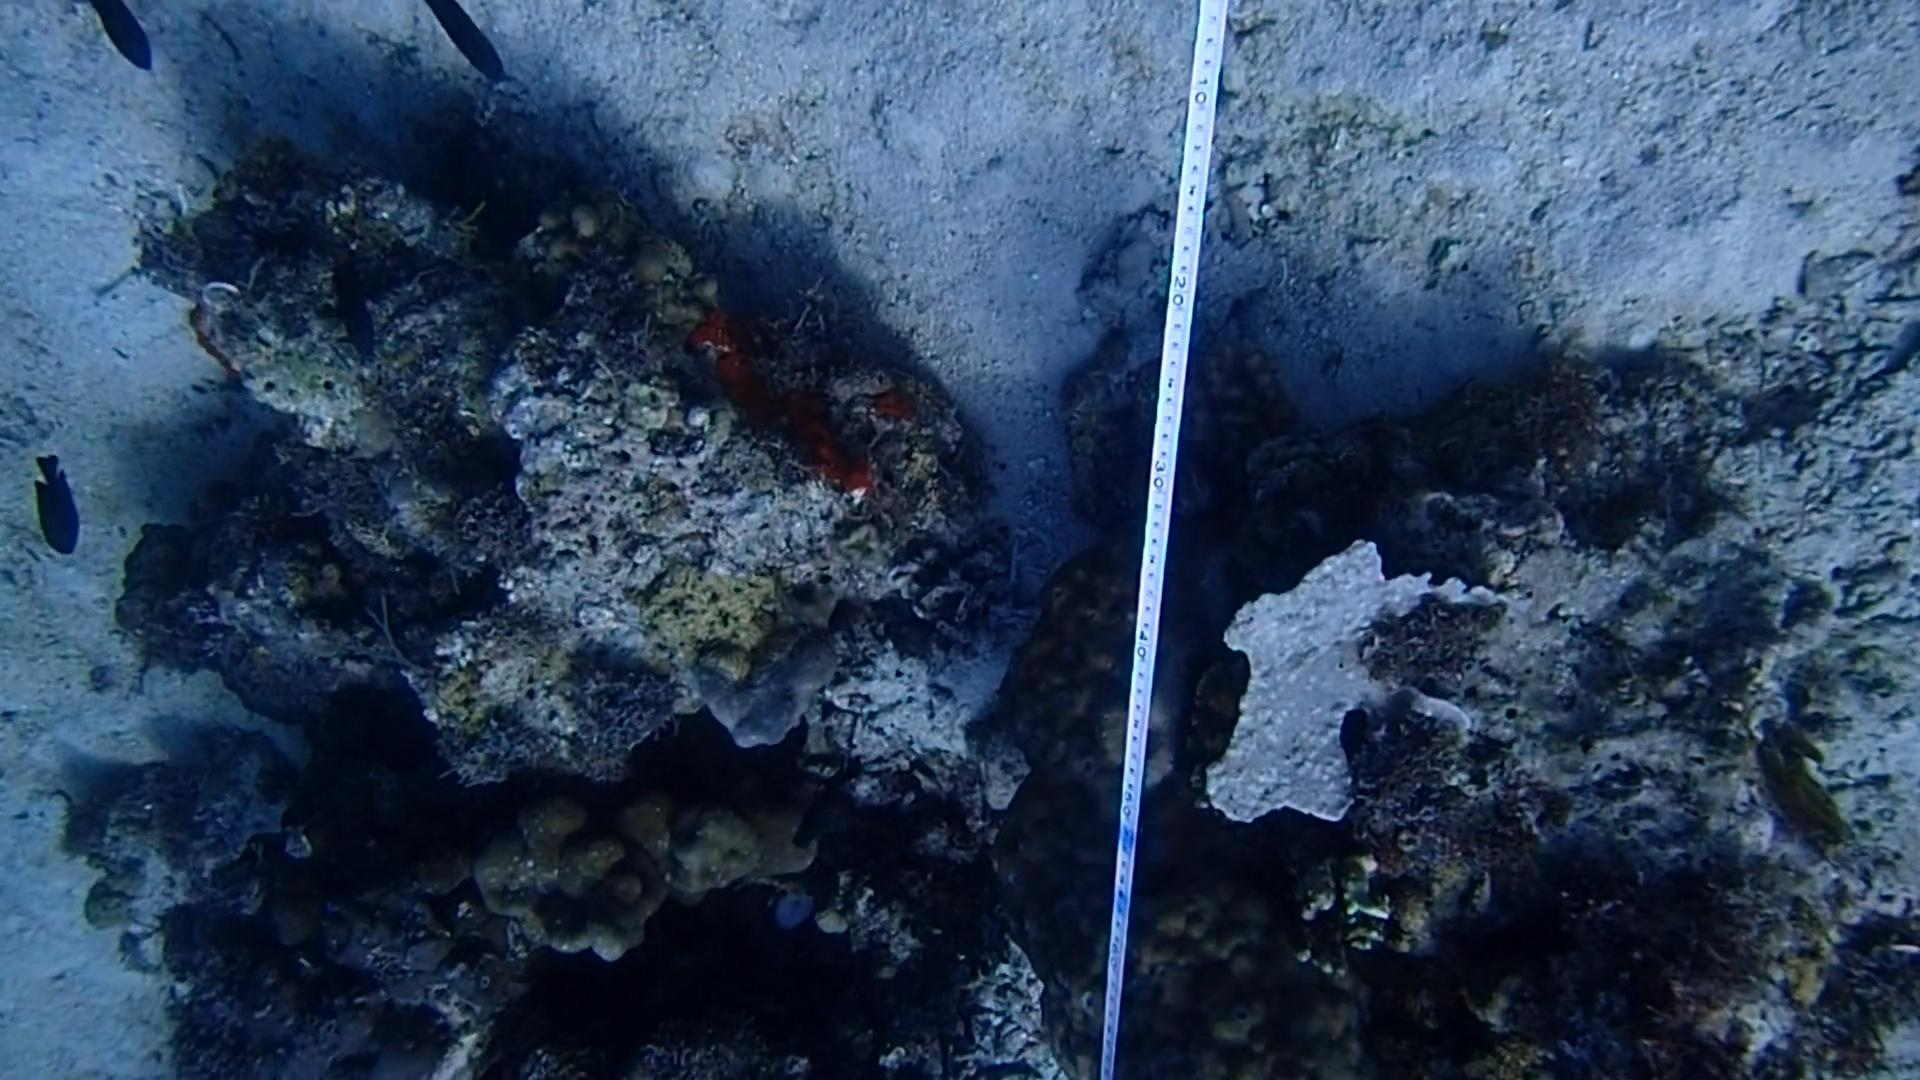Dark Fish: (419, 0, 513, 91), (26, 448, 90, 567), (99, 0, 162, 82)
